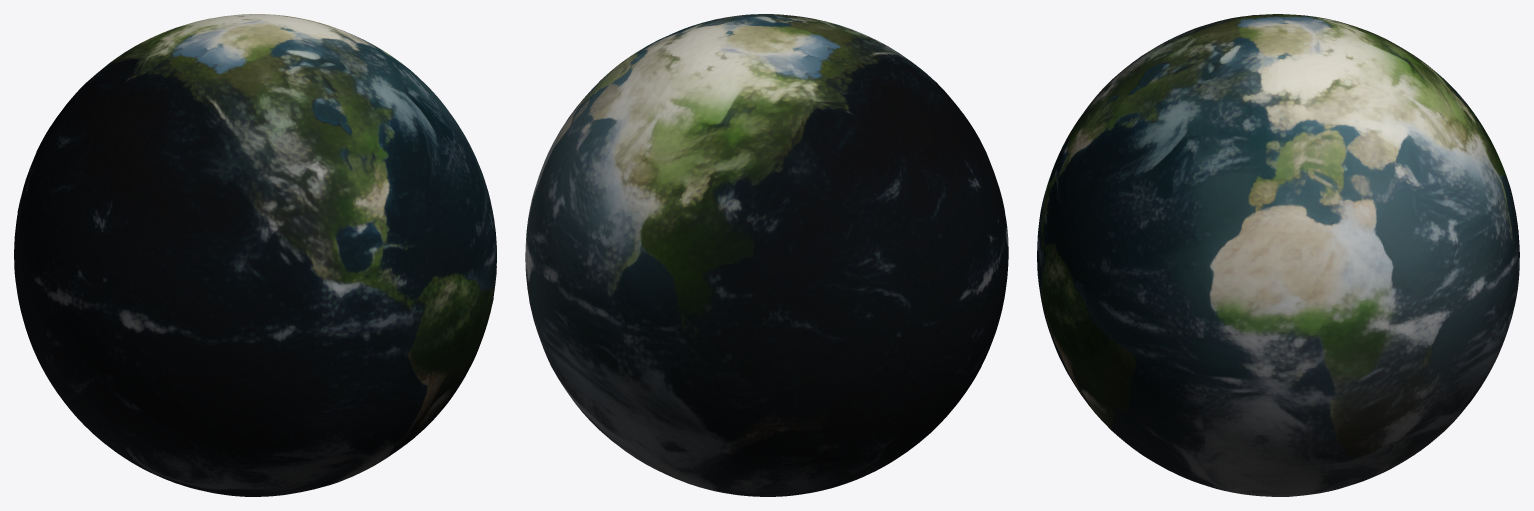
The model's file is sample.glb.
3 renders of one model, left to right at view 1: azimuth 30°, elevation 25°; view 2: azimuth 150°, elevation 25°; view 3: azimuth 270°, elevation 25°, orthographic.
Parts seen in each view (by area): view 1: world; view 2: world; view 3: world.
Part boxes in pixels (x1,y1,x2,y2): world: (14, 14, 496, 496); world: (525, 14, 1008, 496); world: (1037, 14, 1519, 496).
Bounding box in the file's own units: 0.999 × 0.999 × 0.9989.
1 material, 1 textured.
